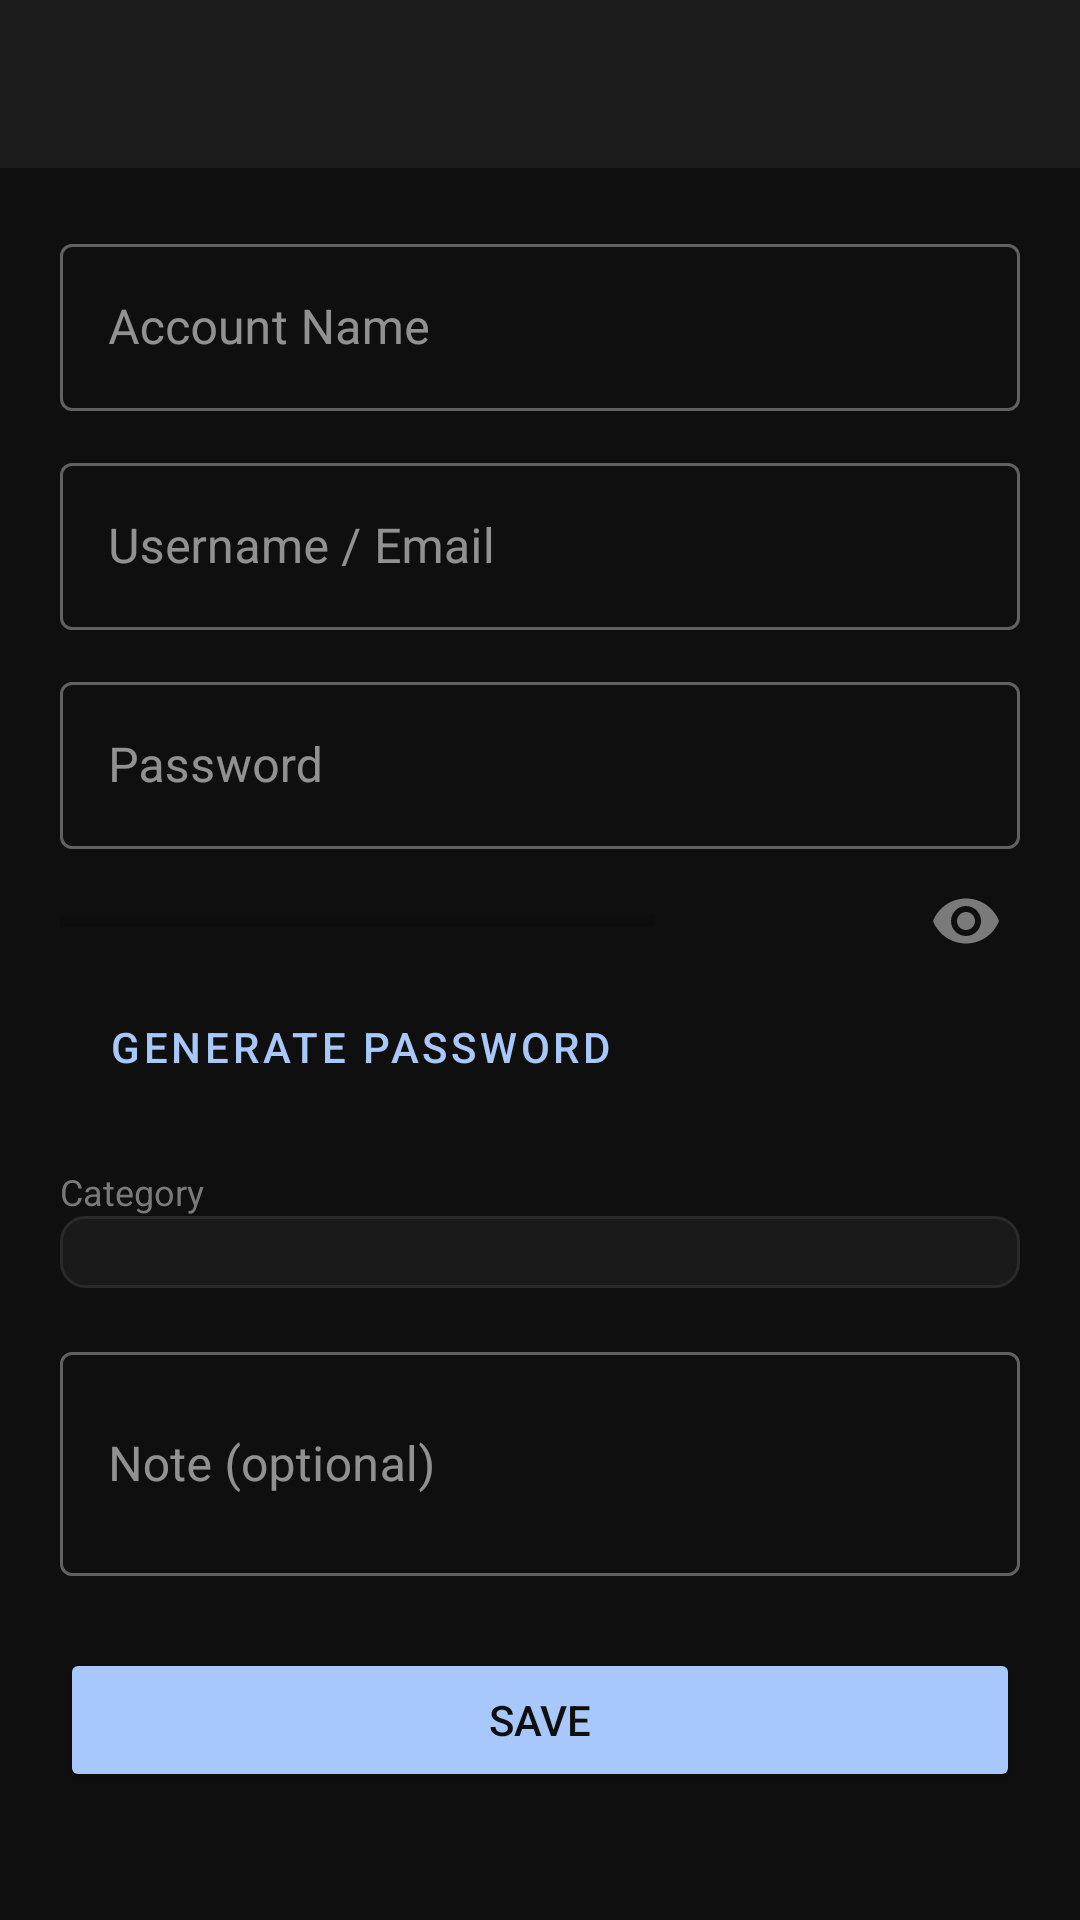

Where icons sit on this 1080w x 1920h app screen, as (left=x1, top=y1, right=x2, bottom=y2):
Show/Hide: (left=933, top=898, right=999, bottom=944)
